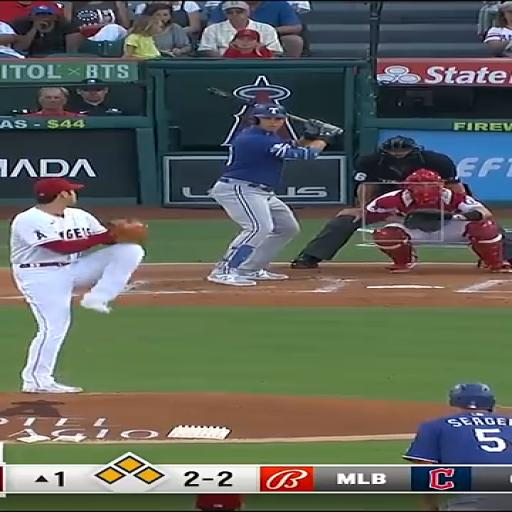bat: (204, 87, 336, 136)
